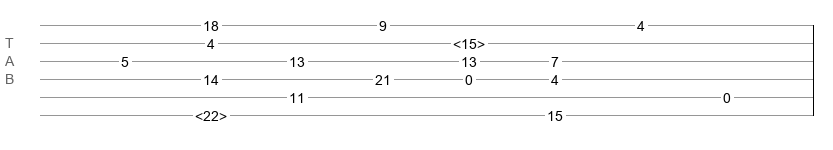0: (465, 72, 473, 82), (723, 90, 731, 100)
11: (289, 90, 305, 100)
13: (289, 54, 305, 64), (461, 54, 477, 64)
14: (203, 72, 219, 82)
15: (547, 108, 563, 118)
18: (203, 18, 219, 28)
21: (375, 72, 391, 82)
4: (207, 36, 215, 46), (551, 72, 559, 82), (637, 18, 645, 28)
5: (121, 54, 129, 64)
7: (551, 54, 559, 64)
9: (379, 18, 387, 28)
harmonic: (195, 108, 227, 118), (453, 36, 485, 46)
